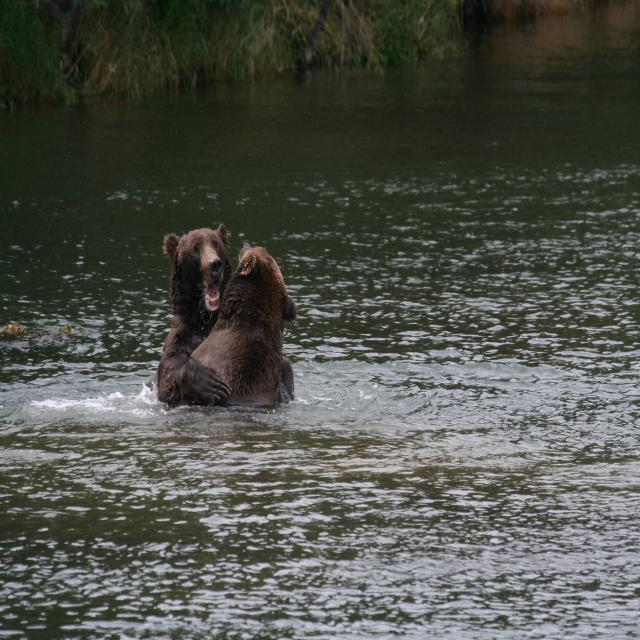bear face: (202, 240, 299, 395), (160, 223, 232, 402)
